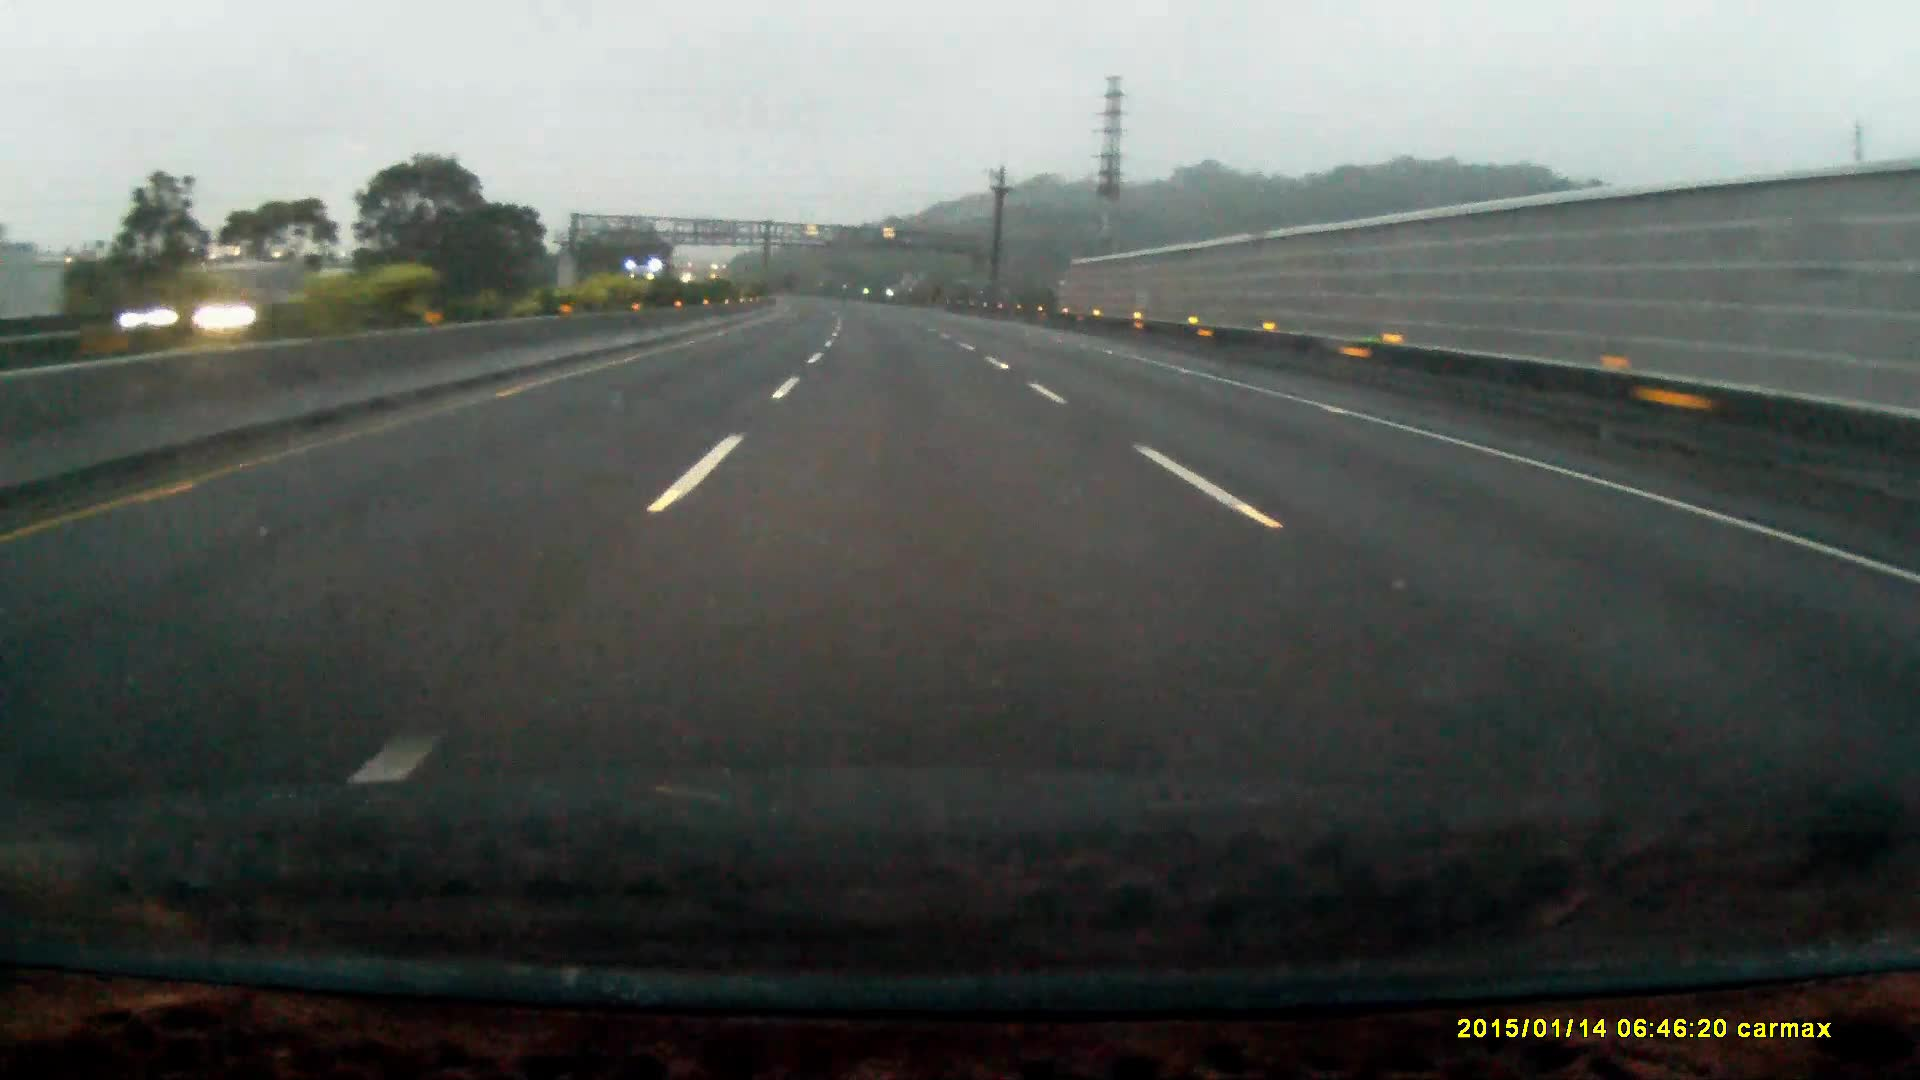vehicle: (628, 262, 673, 309)
